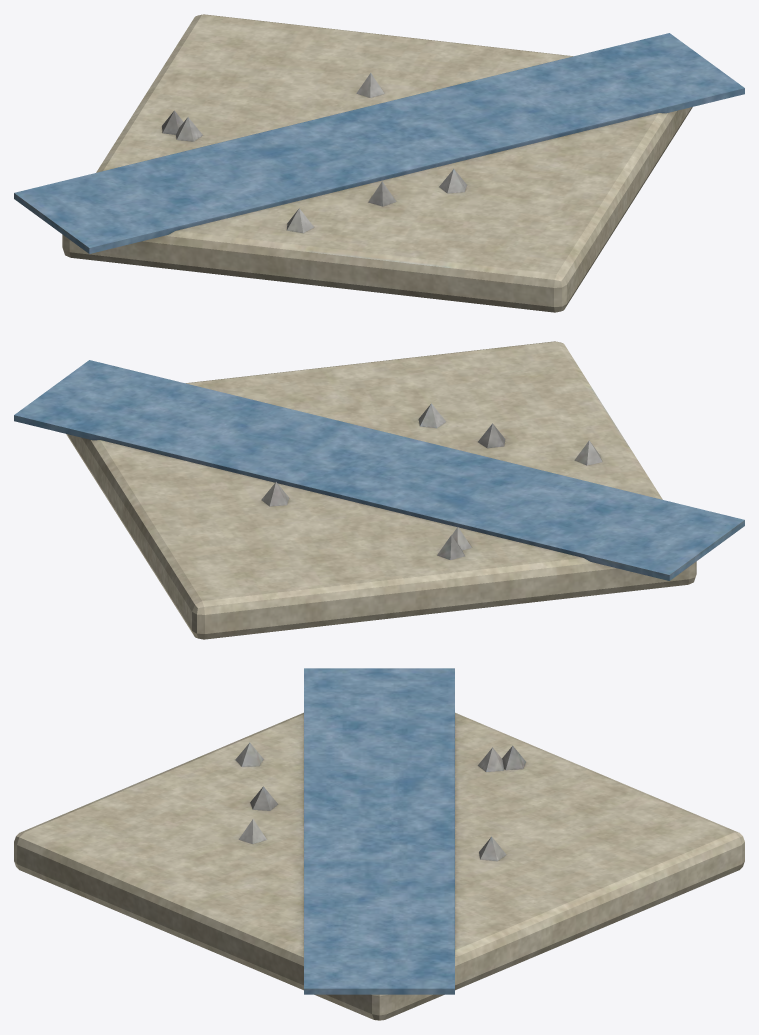
The model's file is river_a.glb.
3 renders of one model, top to bottom at view 1: azimuth 30°, elevation 25°; view 2: azimuth 150°, elevation 25°; view 3: azimuth 270°, elevation 25°, orthographic.
Parts seen in each view (by area): view 1: dilek; view 2: dilek; view 3: dilek.
Boxes of the visible parts, x1,y1,x2,y2 form: dilek: (14, 14, 744, 312); dilek: (14, 341, 744, 639); dilek: (14, 668, 744, 1020).
Bounding box in the file's own units: 2.51 × 0.21 × 2.42.
1 material, 1 textured.
